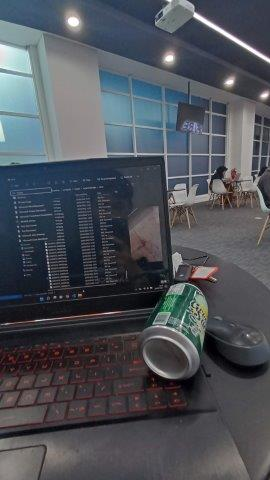kaleng: (139, 282, 208, 379)
